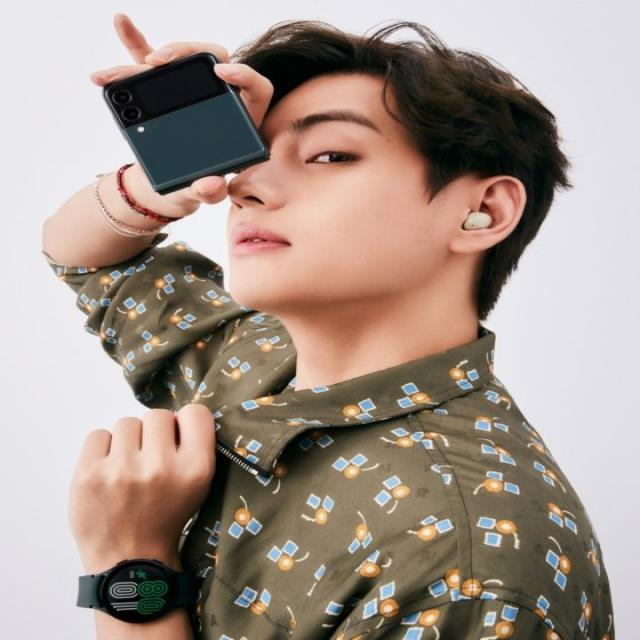earphone: (462, 193, 496, 252)
smart phone: (99, 55, 274, 193)
watch: (60, 558, 202, 624)
